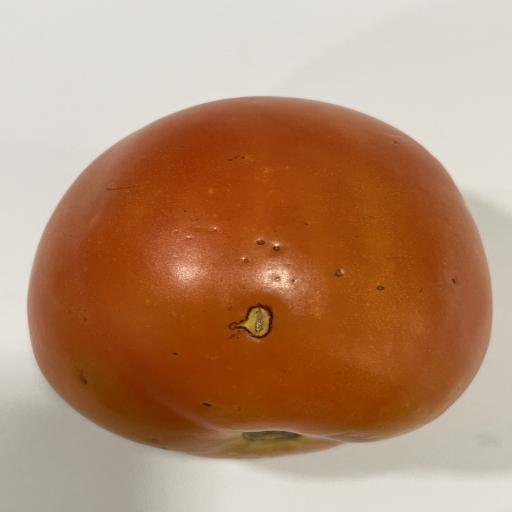ripe: (30, 98, 490, 456)
